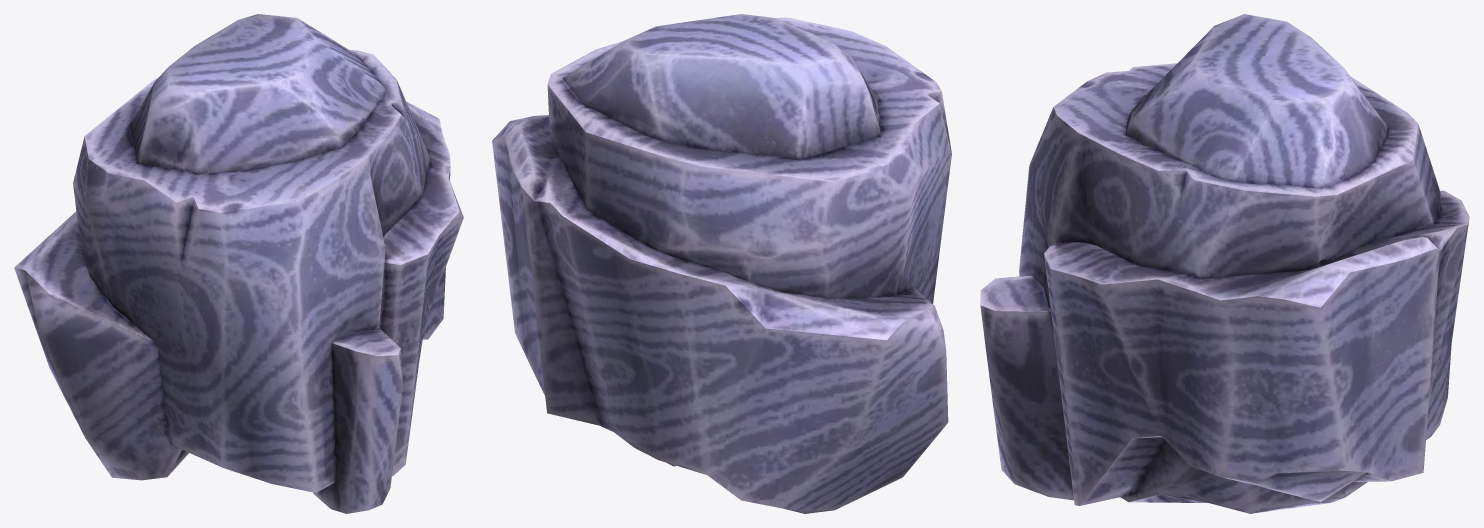
3 views of the same model, side by side, from view 1: azimuth 30°, elevation 25°; view 2: azimuth 150°, elevation 25°; view 3: azimuth 270°, elevation 25° (orthographic). The views are drawn at different scales.
Parts seen in each view (by area): view 1: SM_Runite_Ore_Medium_01_LOD0; view 2: SM_Runite_Ore_Medium_01_LOD0; view 3: SM_Runite_Ore_Medium_01_LOD0.
Boxes of the visible parts, x1,y1,x2,y2 form: SM_Runite_Ore_Medium_01_LOD0: [14, 14, 463, 513]; SM_Runite_Ore_Medium_01_LOD0: [492, 14, 951, 513]; SM_Runite_Ore_Medium_01_LOD0: [980, 14, 1469, 513].
Bounding box in the file's own units: 0.357 × 0.3312 × 0.3365.
Materials: 1 (1 with a texture image).
